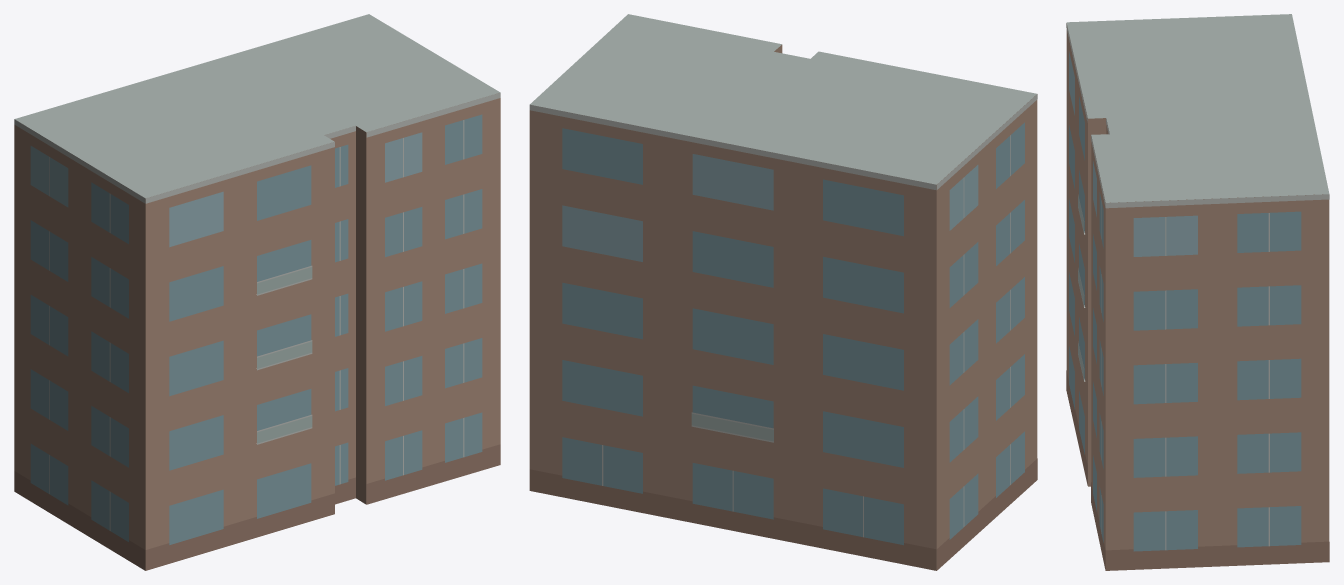
The model's file is survey-upis-32758989.glb.
3 views of the same model, side by side, from view 1: azimuth 30°, elevation 25°; view 2: azimuth 150°, elevation 25°; view 3: azimuth 270°, elevation 25° (orthographic). The views are drawn at different scales.
Visible parts, largest first — view 1: survey-upis-32758989.tmp; view 2: survey-upis-32758989.tmp; view 3: survey-upis-32758989.tmp.
Boxes of the visible parts, x1,y1,x2,y2 form: survey-upis-32758989.tmp: (14, 14, 500, 570); survey-upis-32758989.tmp: (529, 14, 1037, 570); survey-upis-32758989.tmp: (1066, 14, 1329, 570).
Bounding box in the file's own units: 18.51 × 16.8 × 10.89.
